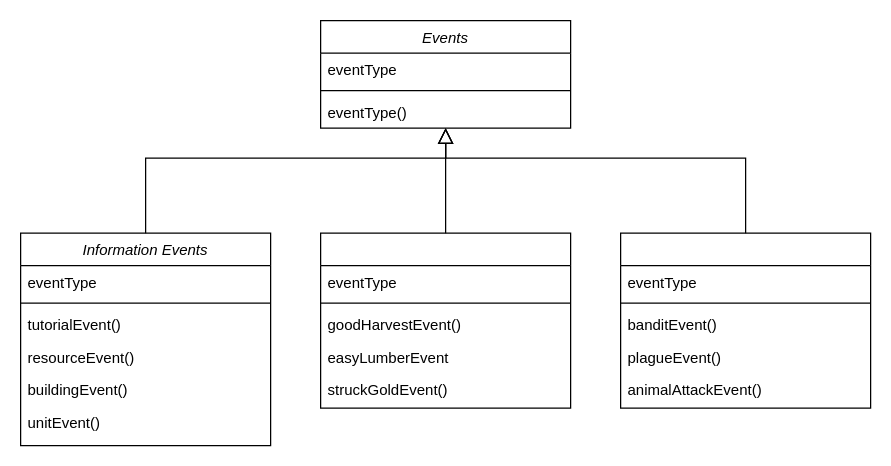
Some shapes in this 891 by 466 pixel diagram are drawn without their labels. The box of each missing label's shape, as (x1, y1, x2, y2) in pixels:
Bad Events: (619, 232, 871, 408)
Good Events: (319, 232, 571, 408)
